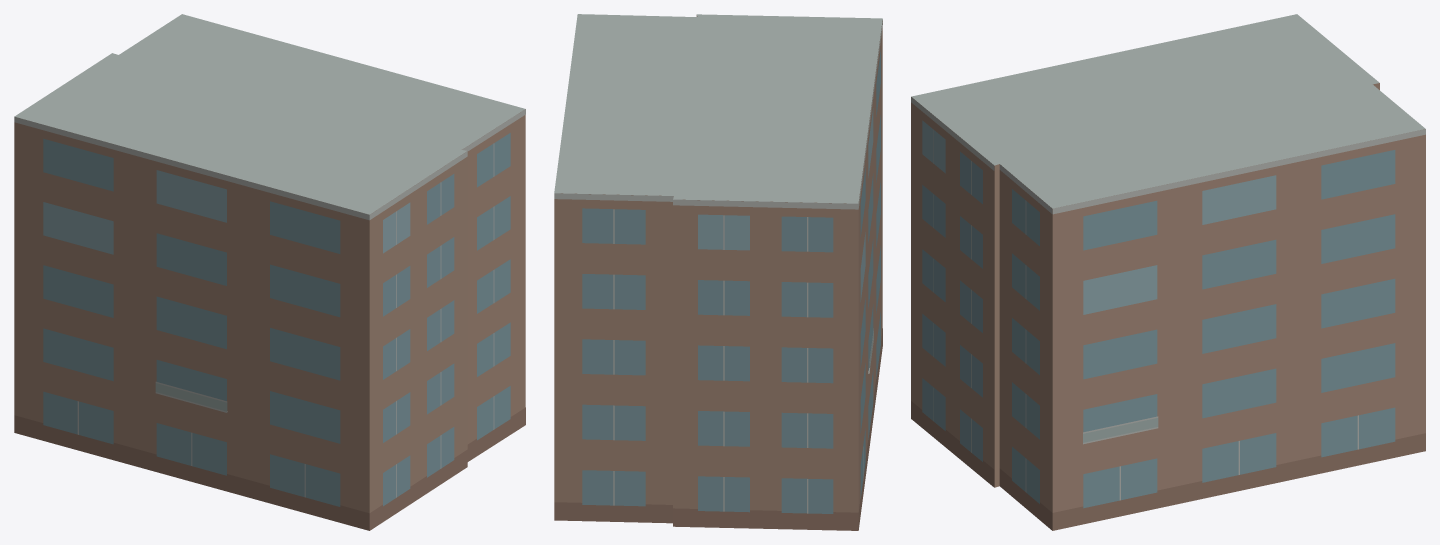
File: survey-upis-32841533.glb
The picture shows the model from 3 angles, left to right: view 1: azimuth 30°, elevation 25°; view 2: azimuth 150°, elevation 25°; view 3: azimuth 270°, elevation 25°; orthographic projection. The views are drawn at different scales.
Parts seen in each view (by area): view 1: survey-upis-32841533.tmp; view 2: survey-upis-32841533.tmp; view 3: survey-upis-32841533.tmp.
Part boxes in pixels (x1,y1,x2,y2): survey-upis-32841533.tmp: (14,14,525,530); survey-upis-32841533.tmp: (554,14,882,530); survey-upis-32841533.tmp: (911,14,1425,530).
Bounding box in the file's own units: 17.76 × 13.7 × 19.84.
